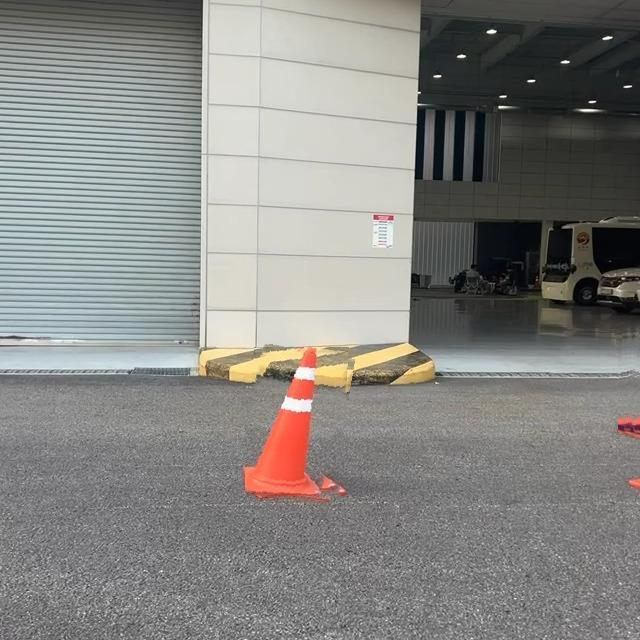fallen_object: (226, 329, 353, 529)
